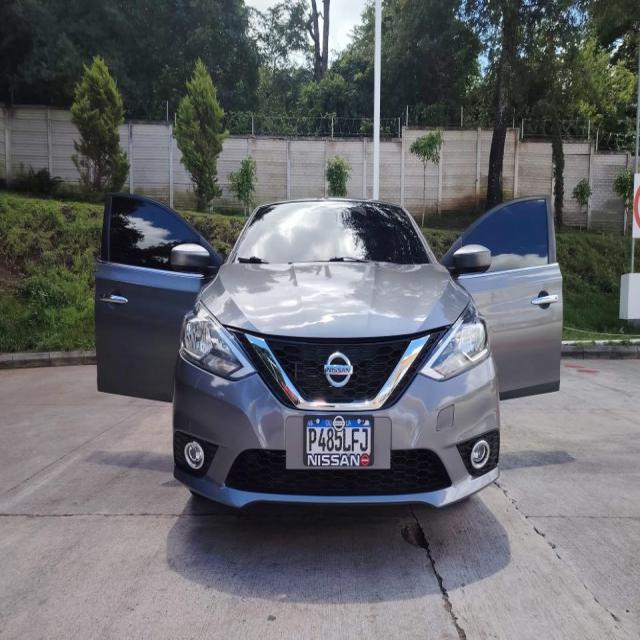Placas: (300, 408, 378, 474)
